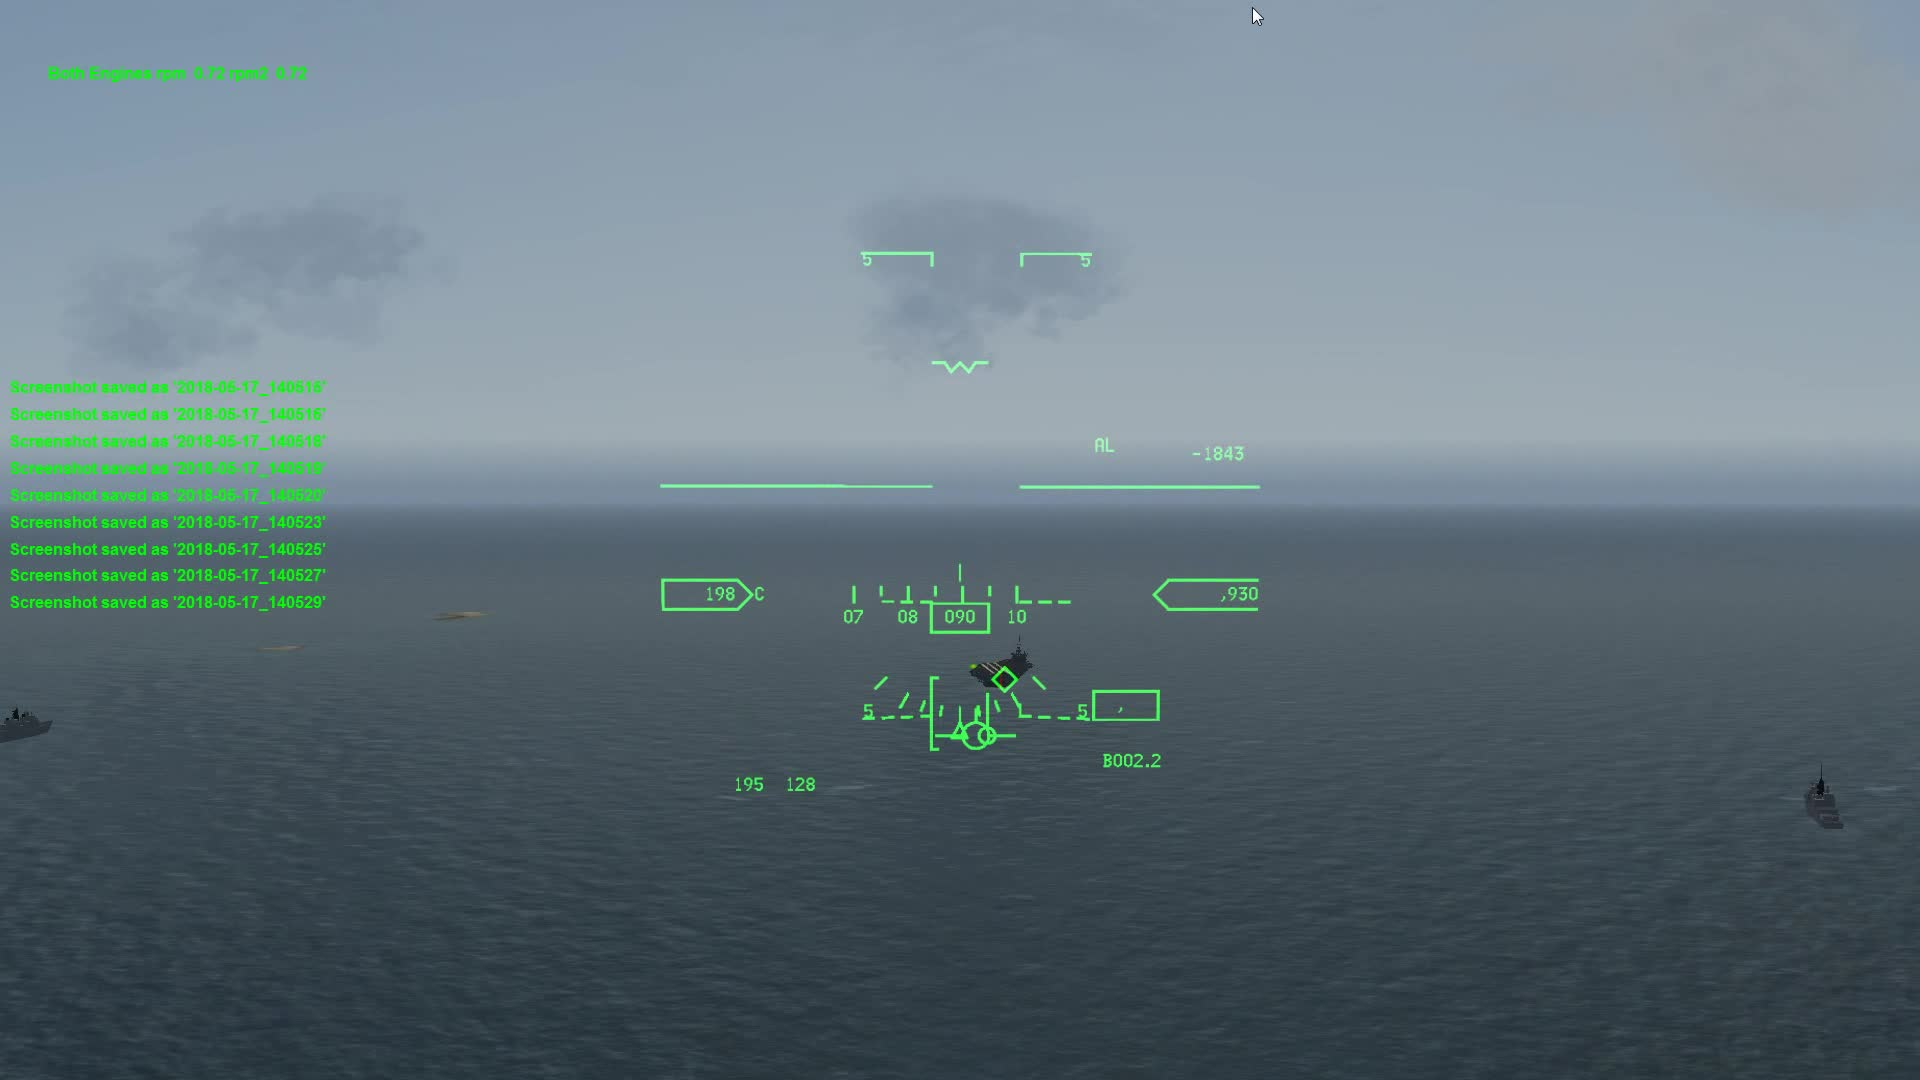speed vector: (943, 708, 1023, 753)
